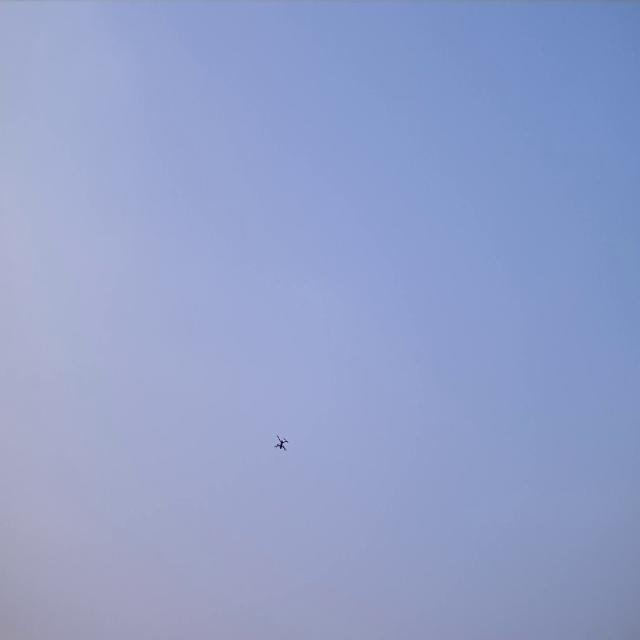UAV: (273, 432, 289, 452)
